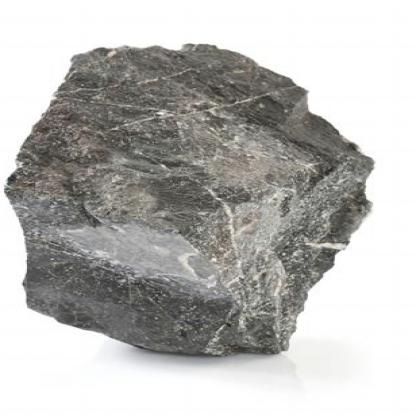Igneous_Basalt: (1, 25, 397, 367)
